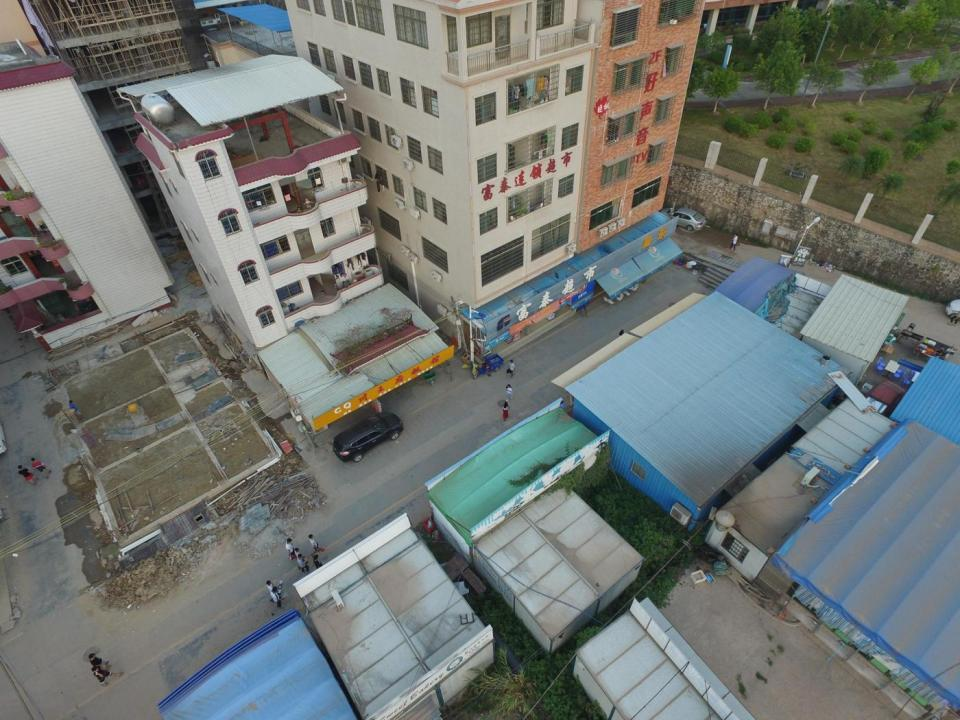car: (332, 412, 402, 463), (660, 206, 708, 232)
